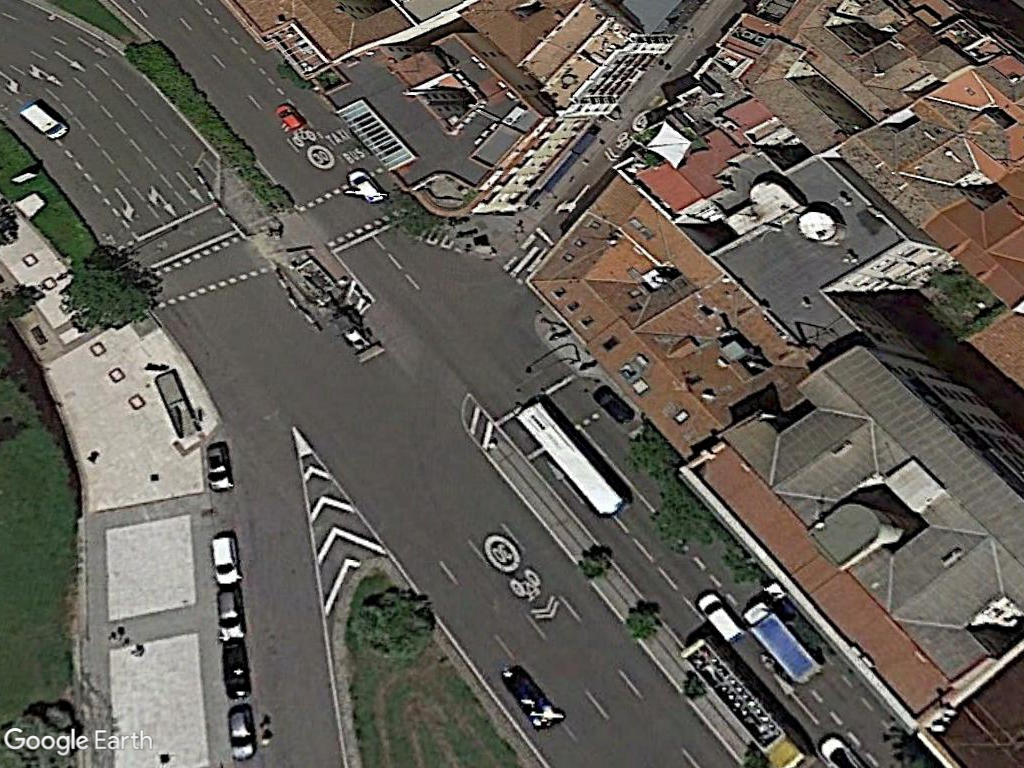bus: (510, 396, 628, 522)
car: (225, 703, 258, 761), (343, 168, 389, 206)
truck: (743, 600, 827, 690), (15, 102, 70, 141)
van: (692, 589, 745, 644), (207, 534, 244, 587)
